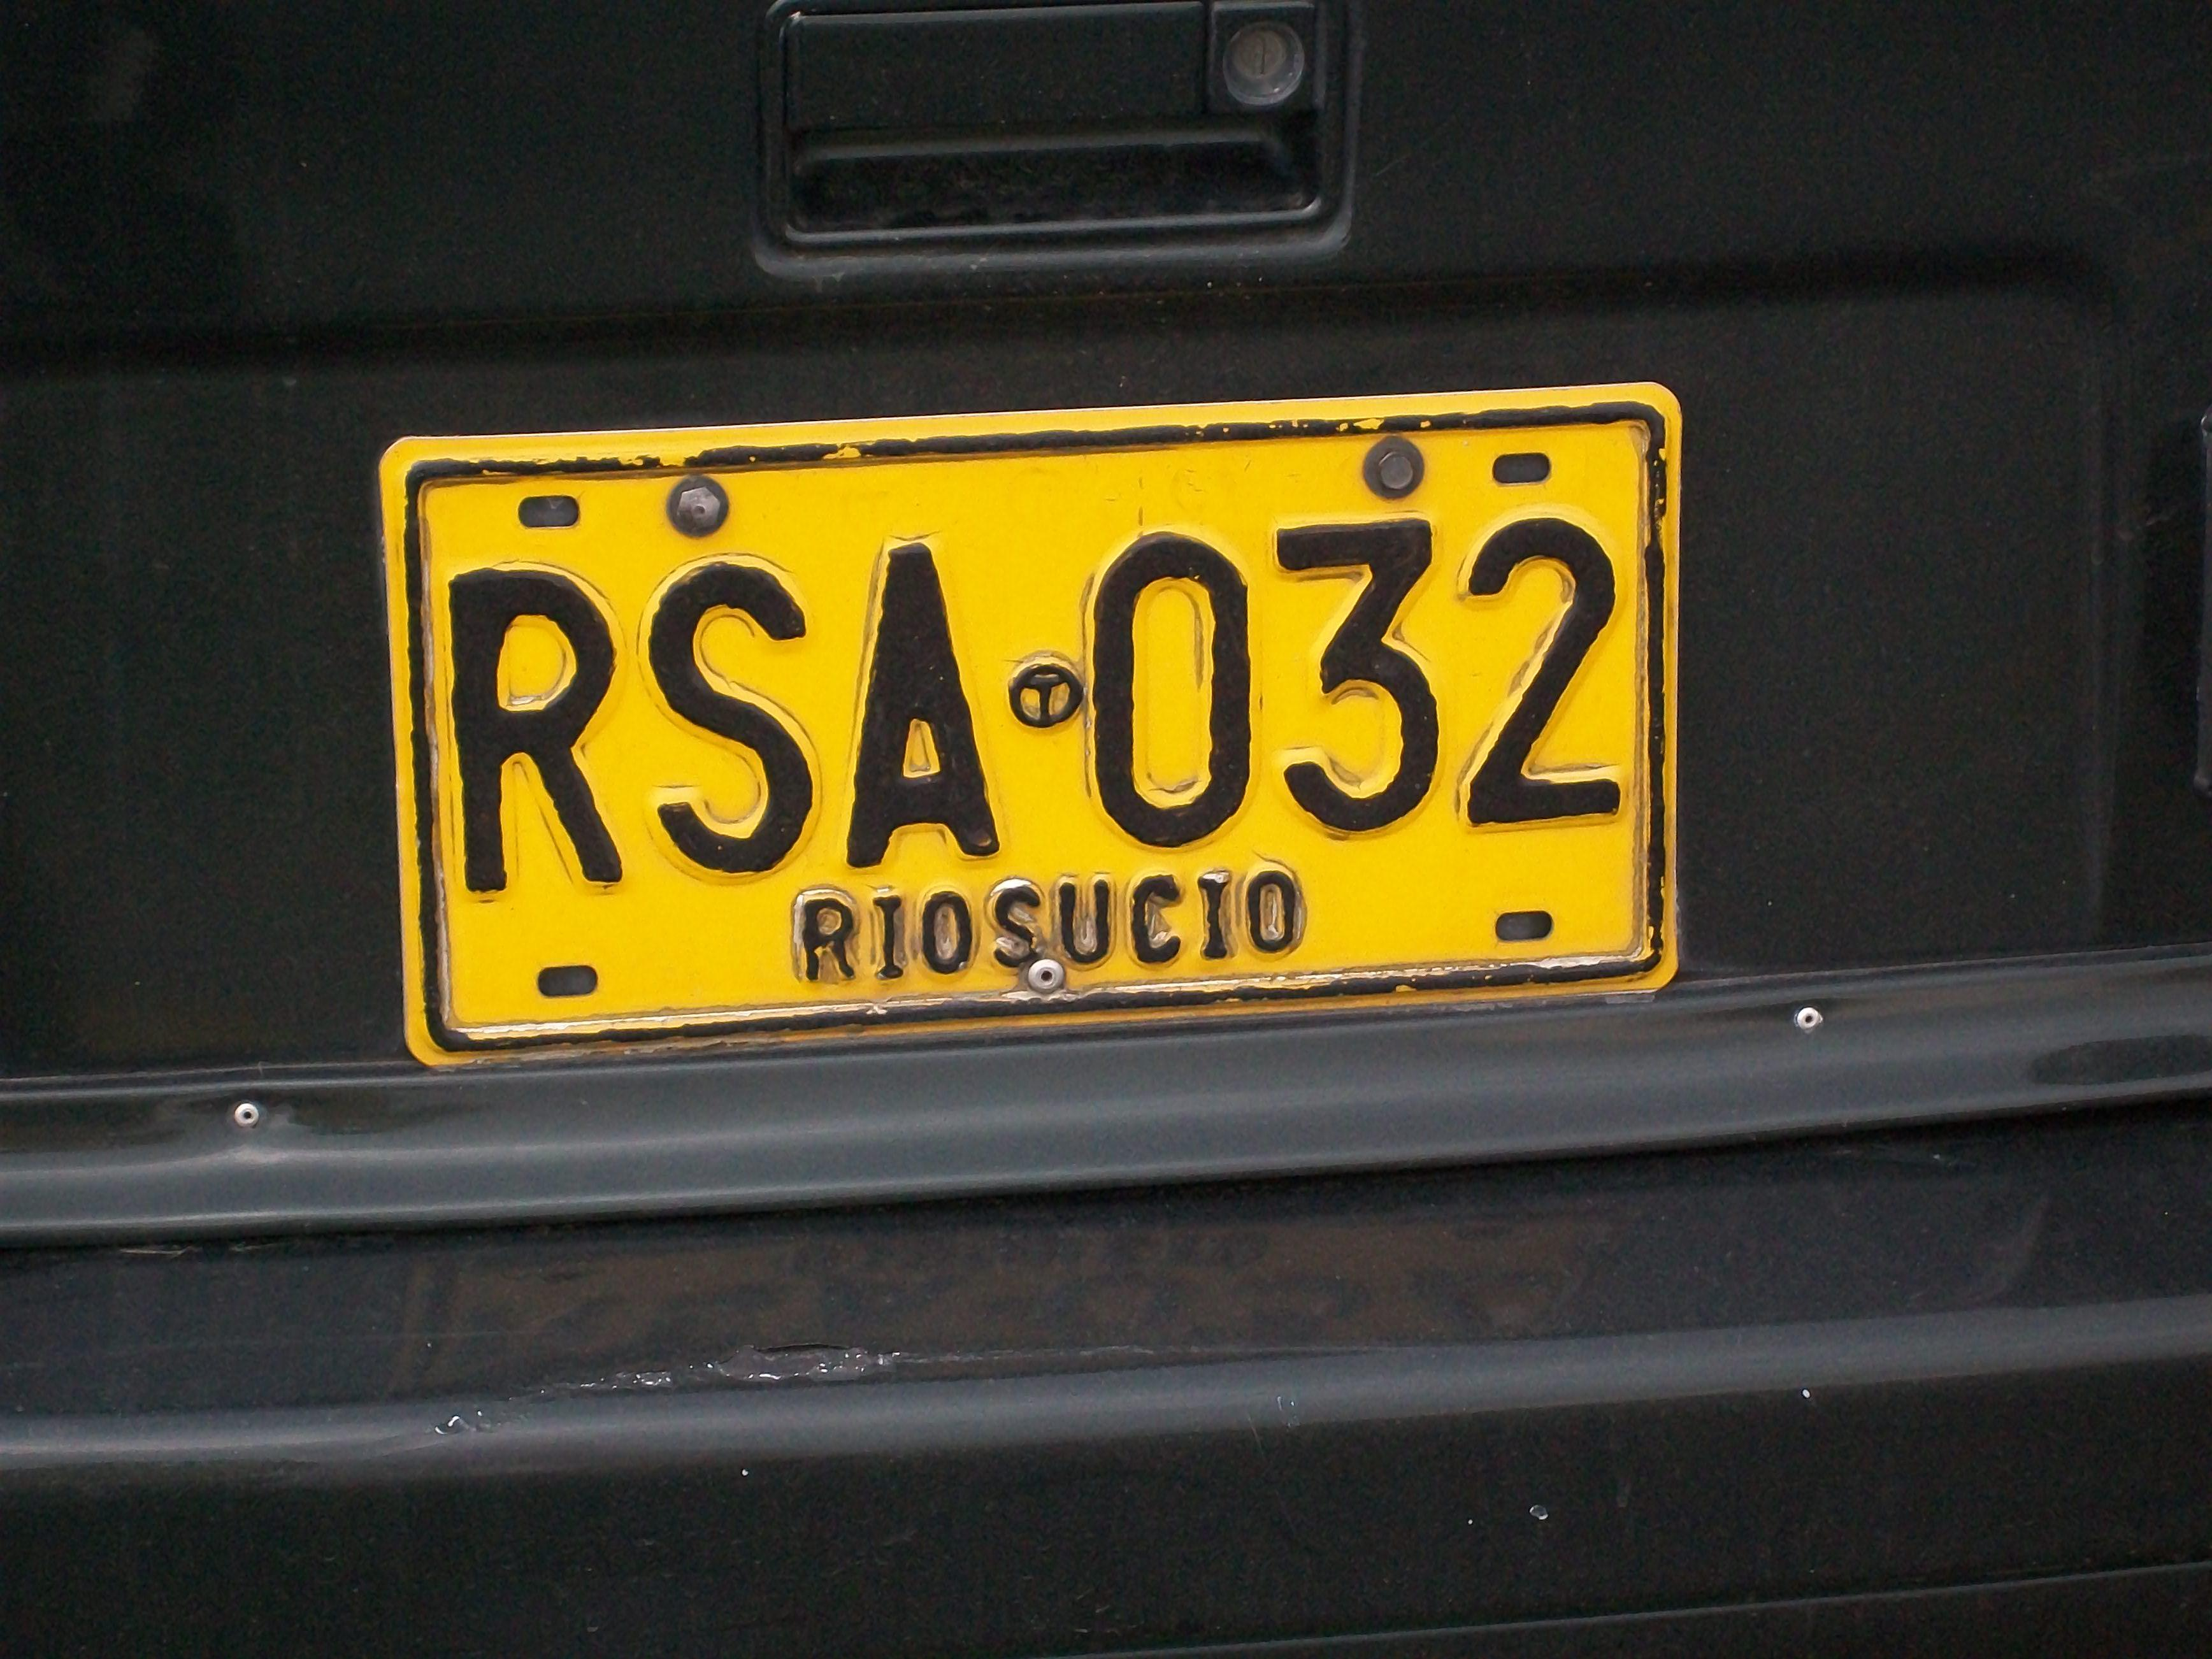placas: (366, 376, 1691, 1083)
